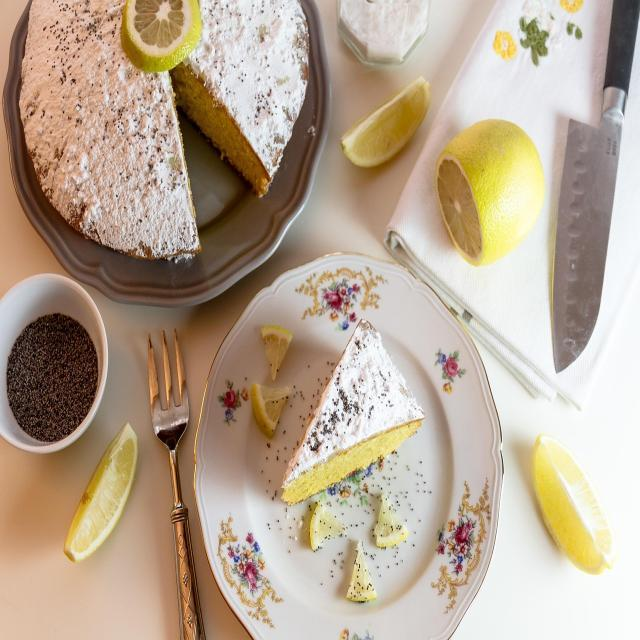Knife: (552, 0, 639, 371)
